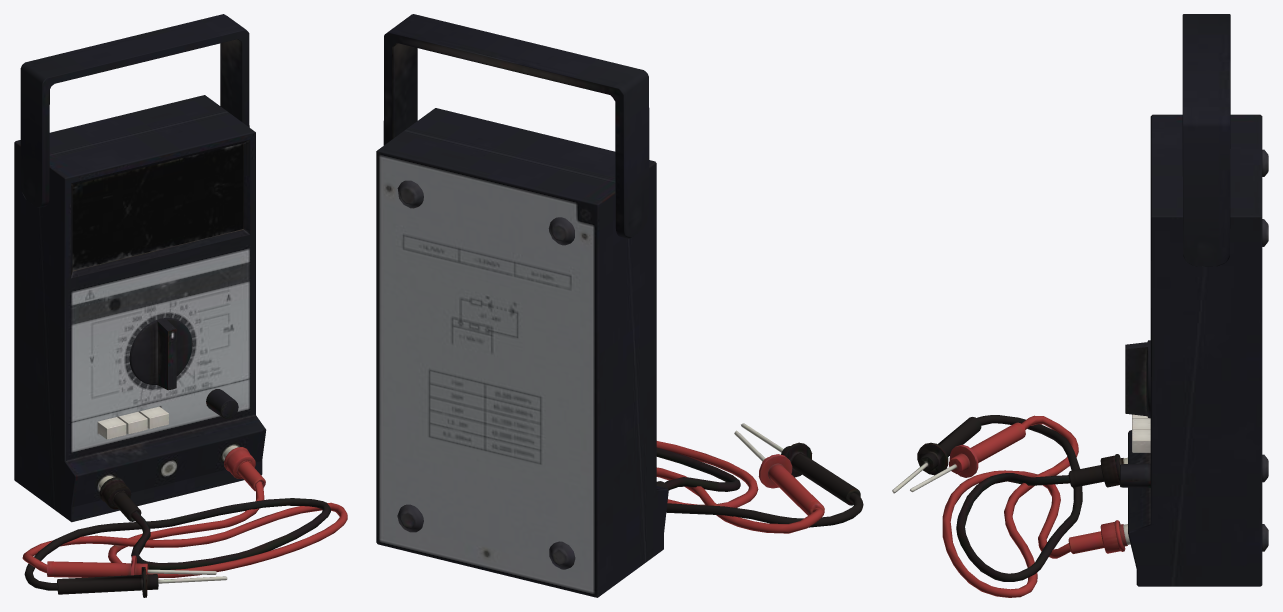
File: retro_multimeter.glb
3 views of the same model, side by side, from view 1: azimuth 30°, elevation 25°; view 2: azimuth 150°, elevation 25°; view 3: azimuth 270°, elevation 25° (orthographic). The views are drawn at different scales.
Visible parts, largest first — view 1: retro_multimeter_LOD0, retro_multimeter_cables_LOD0, retro_multimeter_handle_LOD0, retro_multimeter_dial_LOD0, retro_multimeter_buttons_LOD0, retro_multimeter_knob_LOD0; view 2: retro_multimeter_LOD0, retro_multimeter_handle_LOD0, retro_multimeter_cables_LOD0; view 3: retro_multimeter_LOD0, retro_multimeter_cables_LOD0, retro_multimeter_handle_LOD0, retro_multimeter_dial_LOD0, retro_multimeter_knob_LOD0, retro_multimeter_buttons_LOD0.
Part boxes in pixels (x1,y1,x2,y2): retro_multimeter_LOD0: (14, 95, 266, 522); retro_multimeter_cables_LOD0: (22, 445, 347, 597); retro_multimeter_handle_LOD0: (20, 14, 249, 207); retro_multimeter_dial_LOD0: (129, 318, 192, 390); retro_multimeter_buttons_LOD0: (97, 406, 168, 439); retro_multimeter_knob_LOD0: (206, 389, 238, 418); retro_multimeter_LOD0: (376, 108, 668, 597); retro_multimeter_handle_LOD0: (383, 14, 649, 238); retro_multimeter_cables_LOD0: (656, 423, 863, 533); retro_multimeter_LOD0: (1128, 114, 1268, 586); retro_multimeter_cables_LOD0: (892, 415, 1130, 597); retro_multimeter_handle_LOD0: (1182, 14, 1230, 266); retro_multimeter_dial_LOD0: (1125, 340, 1150, 418); retro_multimeter_knob_LOD0: (1120, 463, 1150, 487); retro_multimeter_buttons_LOD0: (1132, 414, 1150, 452).
Size of the model in its own units: 0.216 by 0.2785 by 0.2025.
2 materials, 2 textured.
